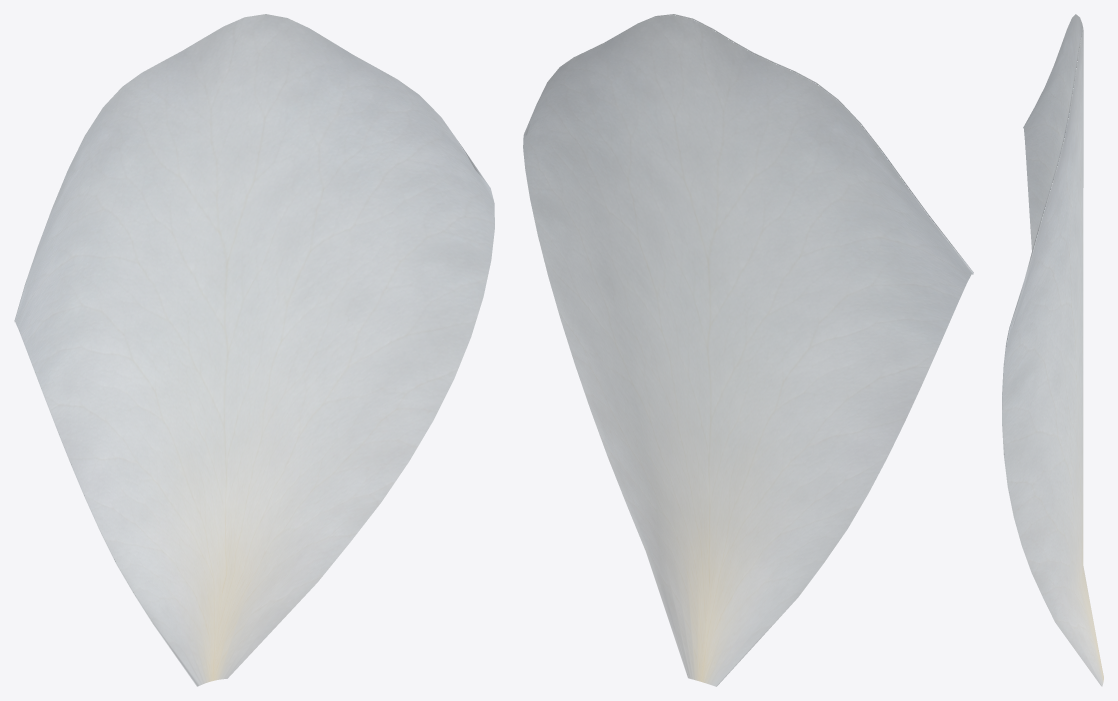
File: middle_02.glb
3 views of the same model, side by side, from view 1: azimuth 30°, elevation 25°; view 2: azimuth 150°, elevation 25°; view 3: azimuth 270°, elevation 25° (orthographic). The views are drawn at different scales.
Parts seen in each view (by area): view 1: middle_02; view 2: middle_02; view 3: middle_02.
Part boxes in pixels (<box>): middle_02: <box>14,14,494,686</box>; middle_02: <box>523,14,973,686</box>; middle_02: <box>1002,14,1103,686</box>.
Bounding box in the file's own units: 0.0601 × 0.0816 × 0.0115.
Materials: 1 (1 with a texture image).
